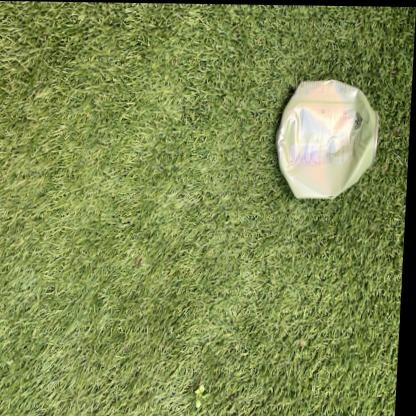trash: (277, 80, 378, 198)
